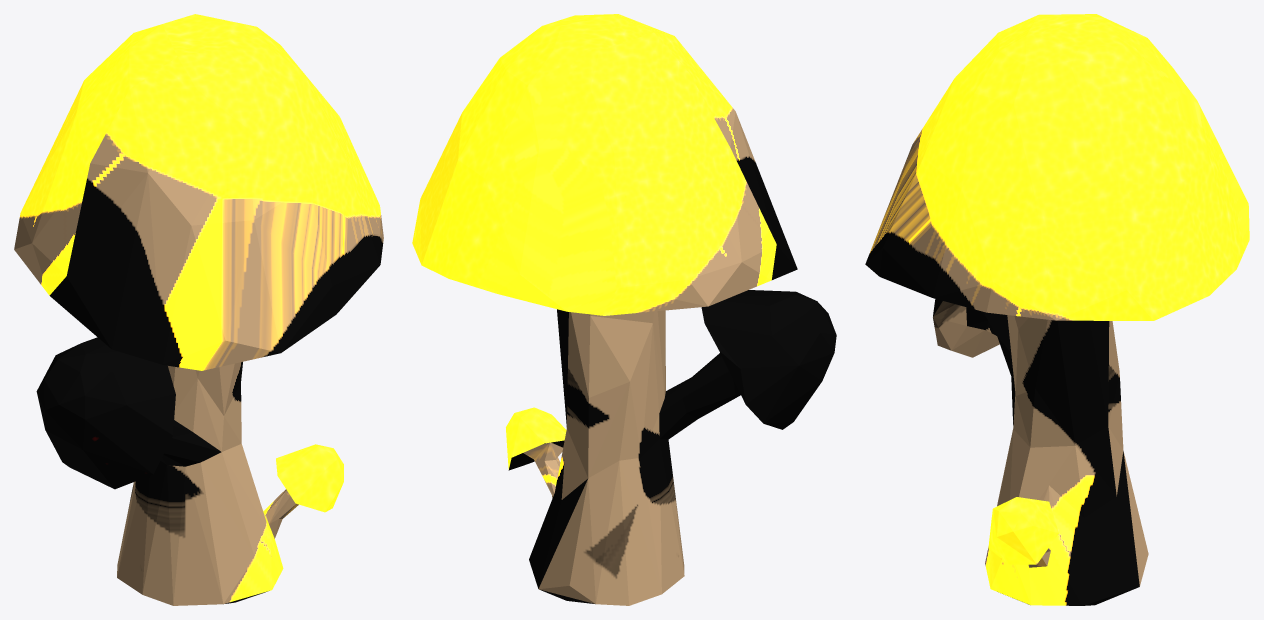
File: Muhsroom1.fbx
3 views of the same model, side by side, from view 1: azimuth 30°, elevation 25°; view 2: azimuth 150°, elevation 25°; view 3: azimuth 270°, elevation 25° (orthographic).
Visible parts, largest first — view 1: Mushrooom1_low; view 2: Mushrooom1_low; view 3: Mushrooom1_low.
Boxes of the visible parts, x1,y1,x2,y2 form: Mushrooom1_low: (14,14,383,605); Mushrooom1_low: (412,14,836,605); Mushrooom1_low: (865,14,1249,605).
Bounding box in the file's own units: 26.72 × 39.18 × 24.75.
